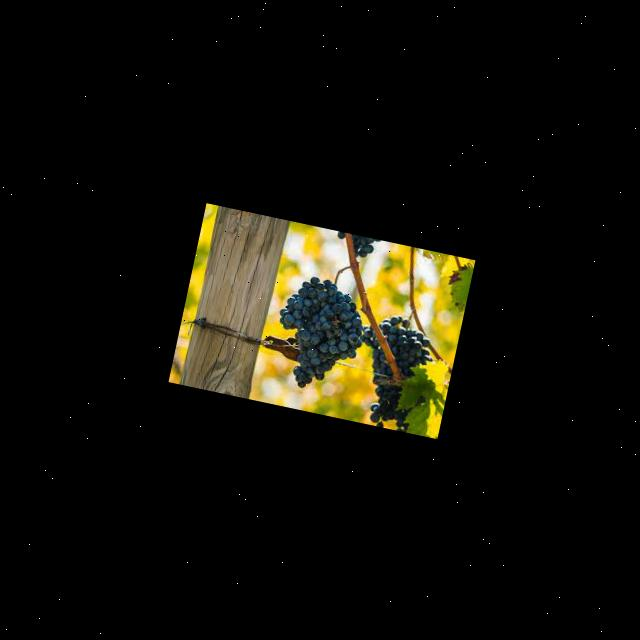grape: (264, 268, 372, 396), (352, 308, 438, 392), (332, 230, 380, 260)
